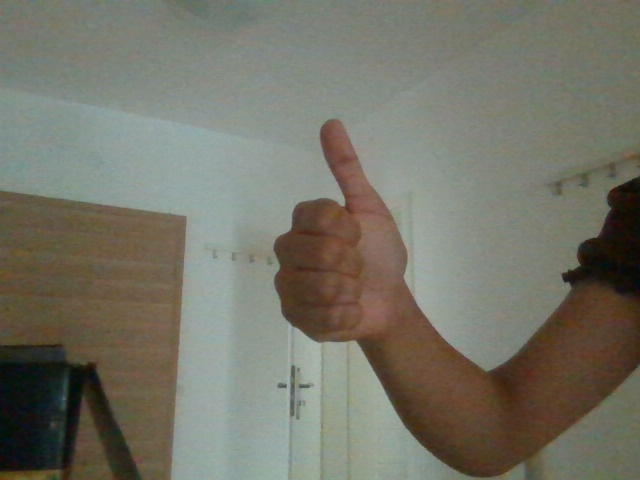Thumbs up: (270, 114, 416, 348)
